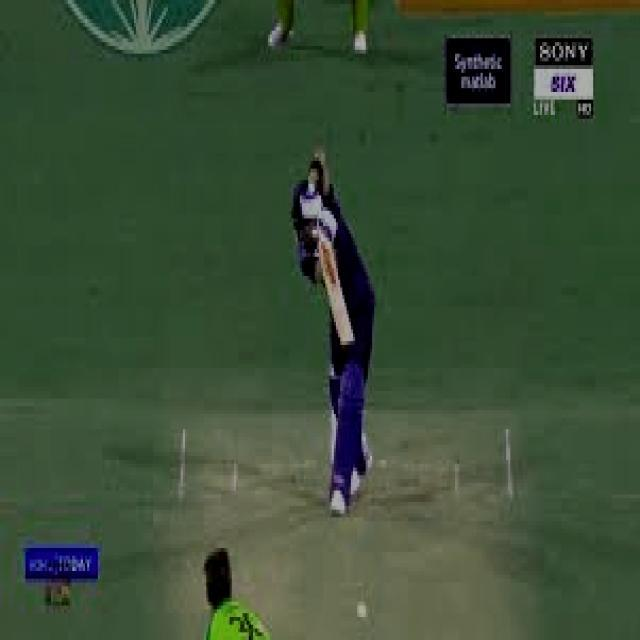bat: (315, 238, 363, 352)
toe: (336, 334, 359, 349)
